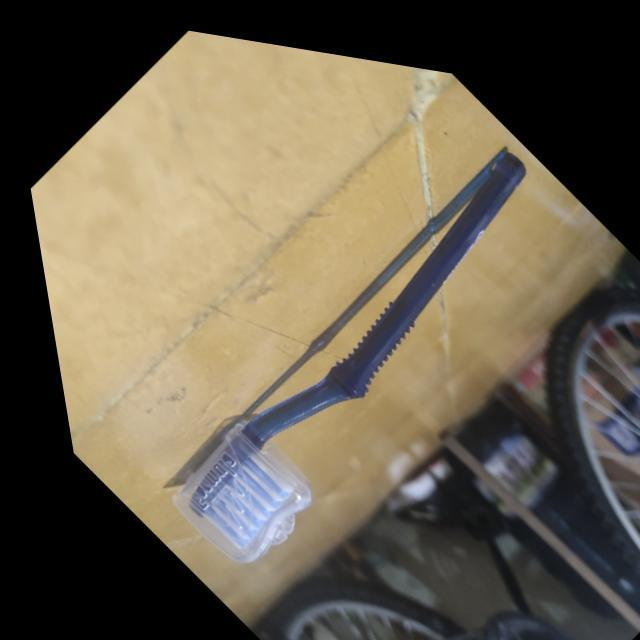toothbrush: (64, 41, 640, 640)
